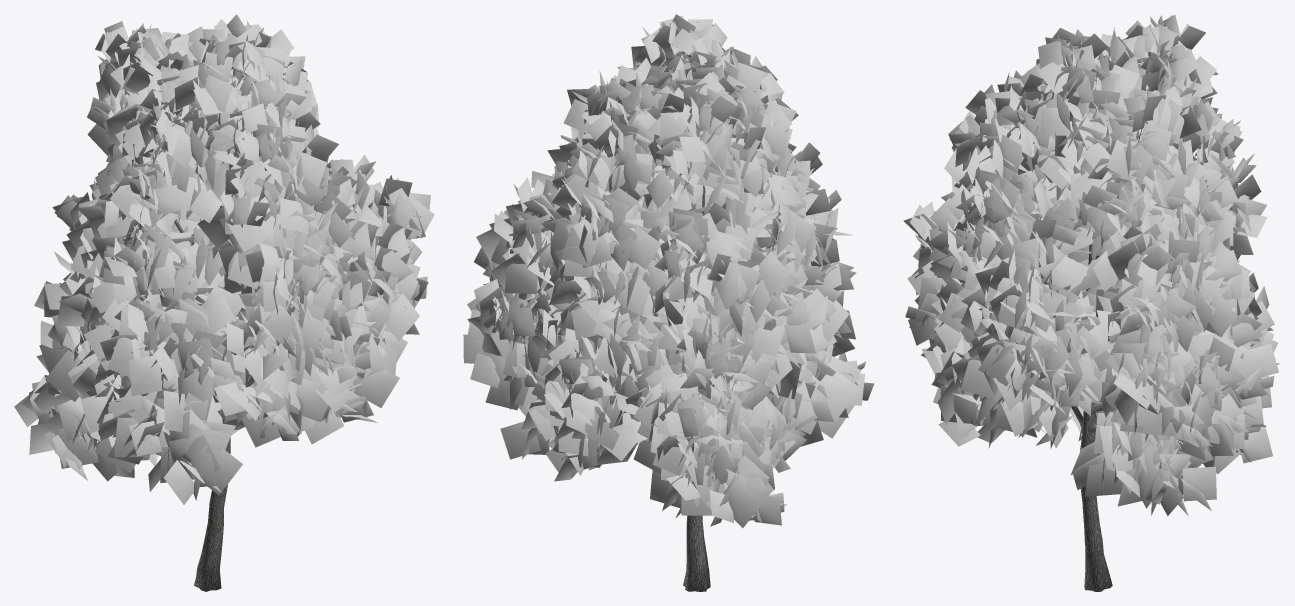
The picture shows the model from 3 angles, left to right: view 1: azimuth 30°, elevation 25°; view 2: azimuth 150°, elevation 25°; view 3: azimuth 270°, elevation 25°; orthographic projection.
Visible parts, largest first — view 1: European_Linden_9; view 2: European_Linden_9; view 3: European_Linden_9.
Boxes of the visible parts, left/top/right/bottom form: European_Linden_9: left=14, top=14, right=434, bottom=591; European_Linden_9: left=463, top=14, right=874, bottom=591; European_Linden_9: left=903, top=14, right=1279, bottom=591.
Size of the model in its own units: 9.94 by 15.75 by 9.51.
